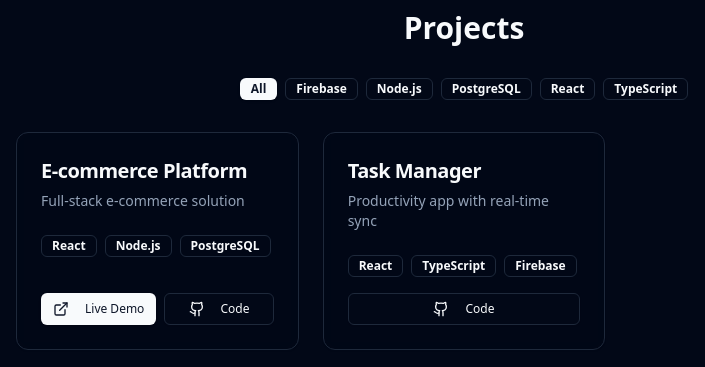
Projects Component › filters projects by technology
The width and height of the screenshot is (705, 367).
Click the text "Node.js" in the row of "All" at [399, 89], box [366,78,433,100]
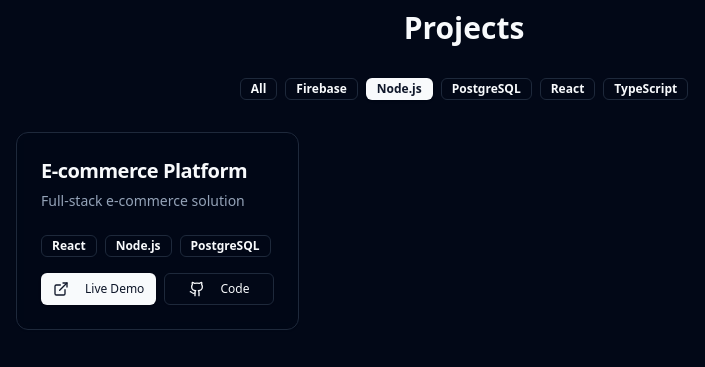
Expected: the text "E-commerce Platform" is shown, [41,157,247,185]
Now the text "Task Manager" is gone
